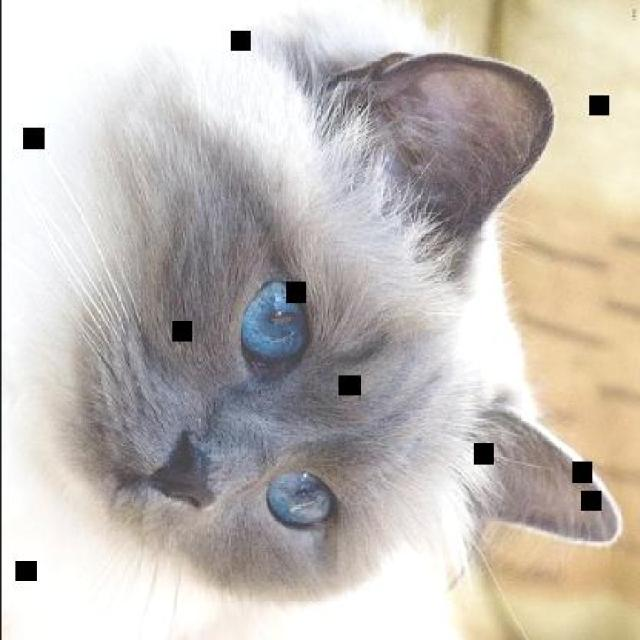unauthorized: (12, 0, 623, 638)
